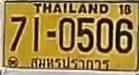0: (96, 17, 112, 52), (58, 17, 74, 50)
1: (33, 16, 38, 50)
5: (77, 17, 93, 51)
6: (115, 18, 132, 52)
7: (10, 16, 26, 51)
SPK: (28, 55, 111, 71)
